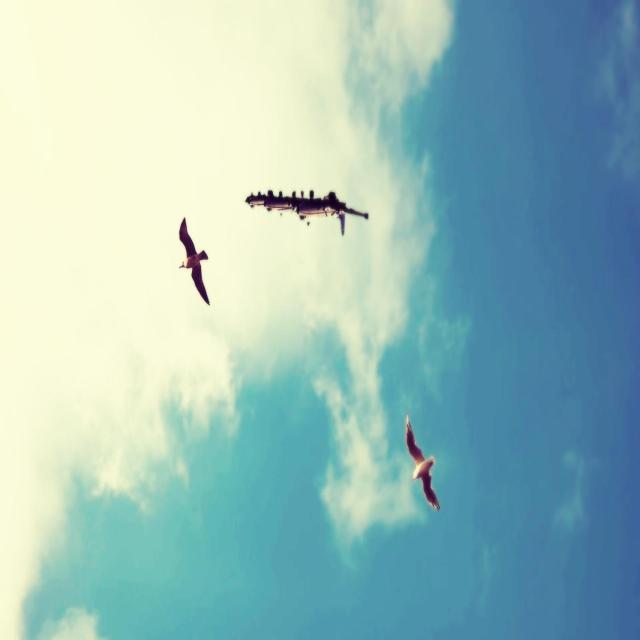airplane: (244, 188, 369, 236)
